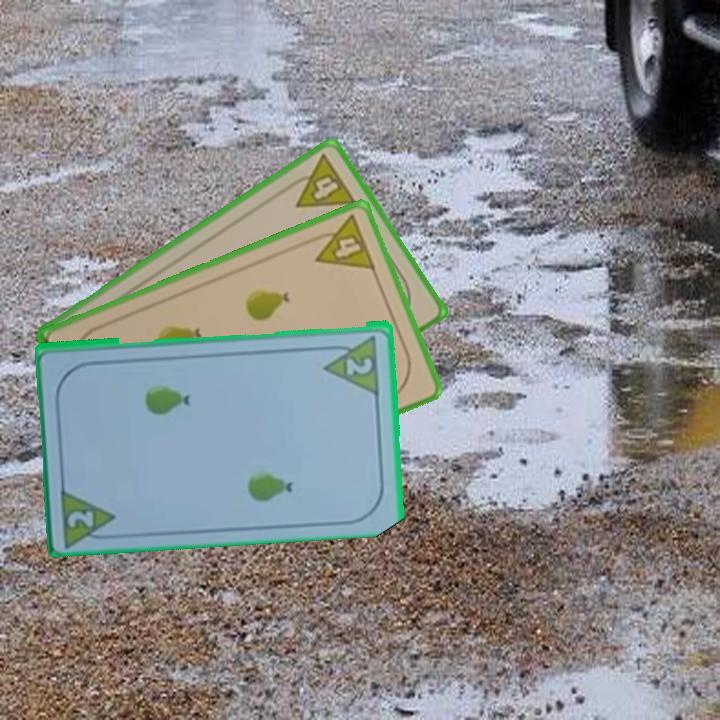2p: (343, 352, 376, 378), (64, 506, 97, 530)
4p: (281, 150, 360, 211), (304, 211, 379, 273)
